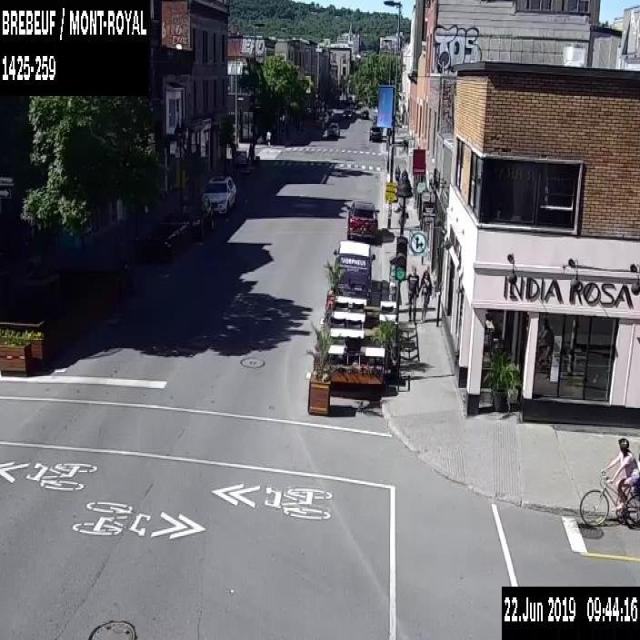cyclist: (578, 436, 639, 527)
pedestrian: (405, 262, 419, 322), (420, 270, 432, 324), (393, 161, 401, 193), (266, 129, 271, 146)
vehicle: (334, 237, 376, 296), (346, 198, 381, 244), (199, 172, 237, 213), (340, 106, 355, 122), (326, 122, 340, 138), (368, 125, 382, 140), (358, 106, 370, 118)
